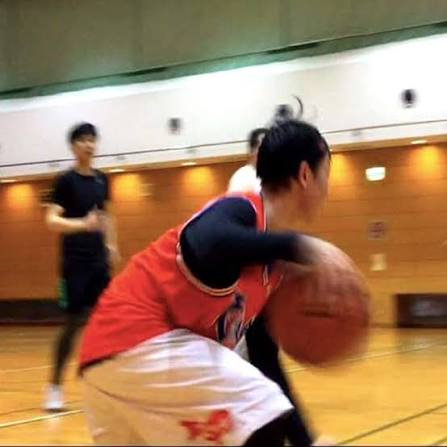ball: (268, 263, 370, 371)
ignore: (226, 128, 269, 194)
player: (77, 119, 371, 445), (41, 123, 116, 414)
